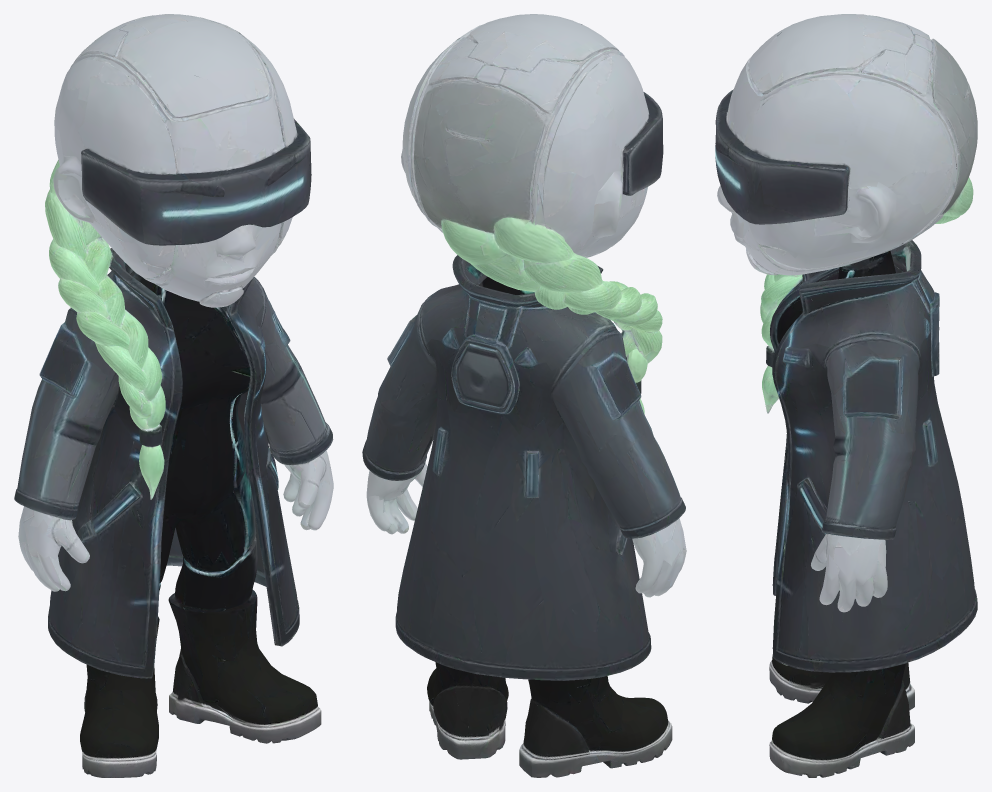
The model's file is iris.glb.
3 renders of one model, left to right at view 1: azimuth 30°, elevation 25°; view 2: azimuth 150°, elevation 25°; view 3: azimuth 270°, elevation 25°, orthographic. The views are drawn at different scales.
Bounding box in the file's own units: 0.866 × 1.9 × 0.6462.
1 material, 1 textured.
